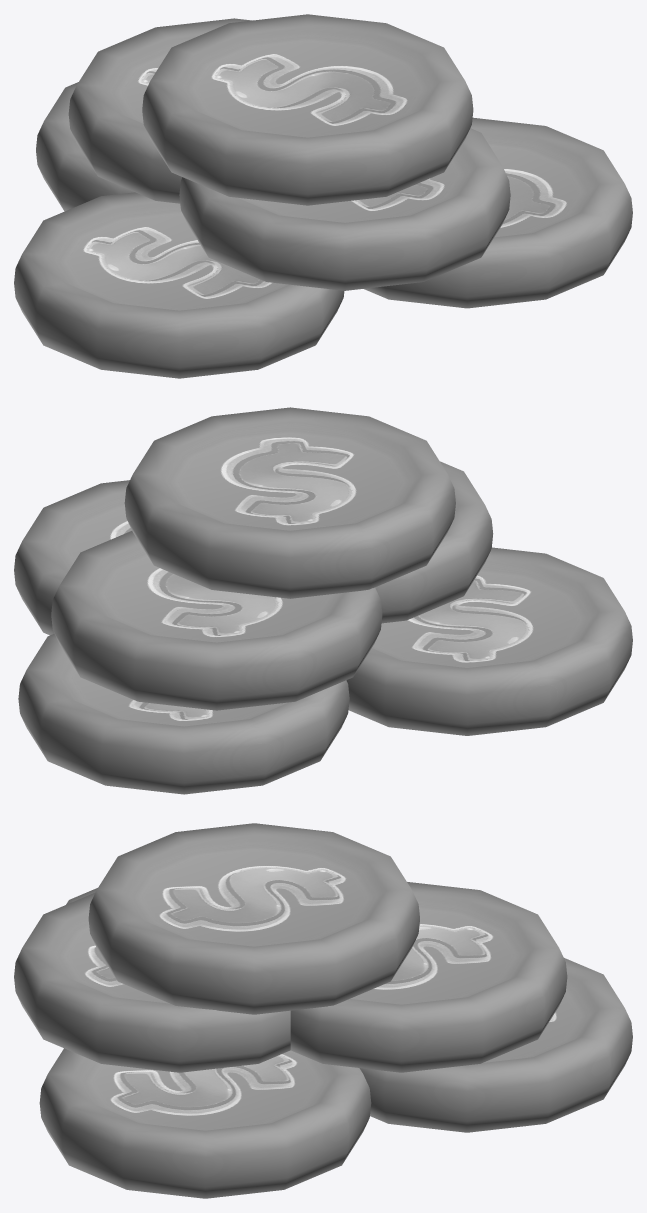
Rendered from Coin02.fbx.
The picture shows the model from 3 angles, top to bottom: view 1: azimuth 30°, elevation 25°; view 2: azimuth 150°, elevation 25°; view 3: azimuth 270°, elevation 25°; orthographic projection.
Parts seen in each view (by area): view 1: Coin.005; view 2: Coin.005; view 3: Coin.005.
Boxes of the visible parts, x1=… form: Coin.005: x1=14, y1=14, x2=632, y2=378; Coin.005: x1=14, y1=407, x2=632, y2=794; Coin.005: x1=14, y1=823, x2=632, y2=1198.
Bounding box in the file's own units: 221 × 64.8 × 206.
Materials: 1 (1 with a texture image).
